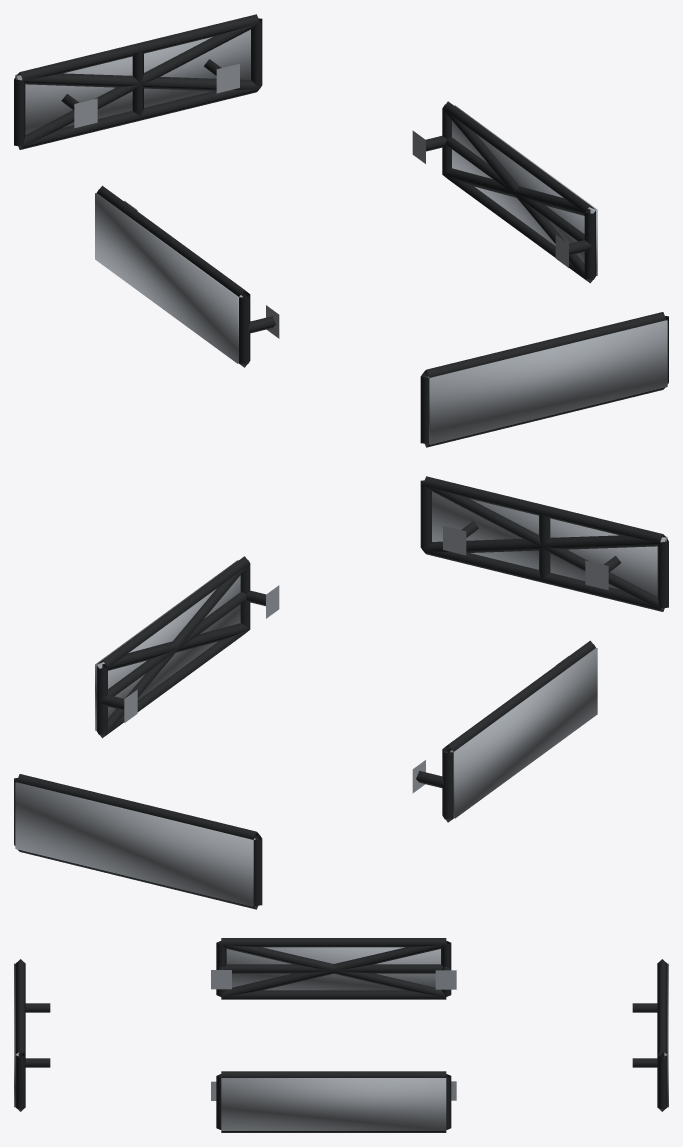
File: ipora_semente_protecao.glb
3 renders of one model, top to bottom at view 1: azimuth 30°, elevation 25°; view 2: azimuth 150°, elevation 25°; view 3: azimuth 270°, elevation 25°, orthographic. The views are drawn at different scales.
Visible parts, largest first — view 1: Protection_front_Level3_Details, Protection_left_Level3_Details, Protection_rear_Level1_Details, Protection_rear_Level3_Details, Protection_right_Level1_Details, Protection_rear_Level2_Details, Protection_right_Level2_Details, Protection_front_Level1_Details, Protection_right_Level3_Details, Protection_left_Level1_Details; view 2: Protection_rear_Level3_Details, Protection_left_Level3_Details, Protection_front_Level1_Details, Protection_front_Level3_Details, Protection_right_Level1_Details, Protection_front_Level2_Details, Protection_right_Level2_Details, Protection_rear_Level1_Details, Protection_right_Level3_Details, Protection_left_Level1_Details; view 3: Protection_right_Level3_Details, Protection_left_Level1_Details, Protection_left_Level2_Details, Protection_left_Level3_Details, Protection_right_Level1_Details, Protection_rear_Level1_Details, Protection_front_Level1_Details.
Boxes of the visible parts, left/top/right/bottom form: Protection_front_Level3_Details: left=427, top=320, right=667, bottom=444; Protection_left_Level3_Details: left=95, top=193, right=242, bottom=363; Protection_rear_Level1_Details: left=14, top=14, right=262, bottom=149; Protection_rear_Level3_Details: left=15, top=29, right=250, bottom=134; Protection_right_Level1_Details: left=412, top=101, right=595, bottom=283; Protection_rear_Level2_Details: left=16, top=23, right=259, bottom=148; Protection_right_Level2_Details: left=442, top=109, right=595, bottom=282; Protection_front_Level1_Details: left=420, top=312, right=668, bottom=447; Protection_right_Level3_Details: left=452, top=105, right=597, bottom=275; Protection_left_Level1_Details: left=97, top=185, right=279, bottom=367; Protection_rear_Level3_Details: left=15, top=782, right=255, bottom=906; Protection_left_Level3_Details: left=450, top=648, right=597, bottom=818; Protection_front_Level1_Details: left=420, top=476, right=668, bottom=611; Protection_front_Level3_Details: left=432, top=491, right=667, bottom=596; Protection_right_Level1_Details: left=96, top=556, right=279, bottom=738; Protection_front_Level2_Details: left=423, top=485, right=666, bottom=610; Protection_right_Level2_Details: left=97, top=564, right=249, bottom=737; Protection_rear_Level1_Details: left=14, top=774, right=262, bottom=909; Protection_right_Level3_Details: left=95, top=560, right=240, bottom=730; Protection_left_Level1_Details: left=412, top=640, right=595, bottom=822; Protection_right_Level3_Details: left=221, top=1078, right=446, bottom=1130; Protection_left_Level1_Details: left=211, top=938, right=456, bottom=999; Protection_left_Level2_Details: left=220, top=942, right=446, bottom=996; Protection_left_Level3_Details: left=226, top=947, right=440, bottom=990; Protection_right_Level1_Details: left=211, top=1071, right=456, bottom=1132; Protection_rear_Level1_Details: left=632, top=959, right=667, bottom=1111; Protection_front_Level1_Details: left=15, top=959, right=50, bottom=1111.
Size of the model in its own units: 1.71 by 0.354 by 3.41.
Materials: 1 (1 with a texture image).
